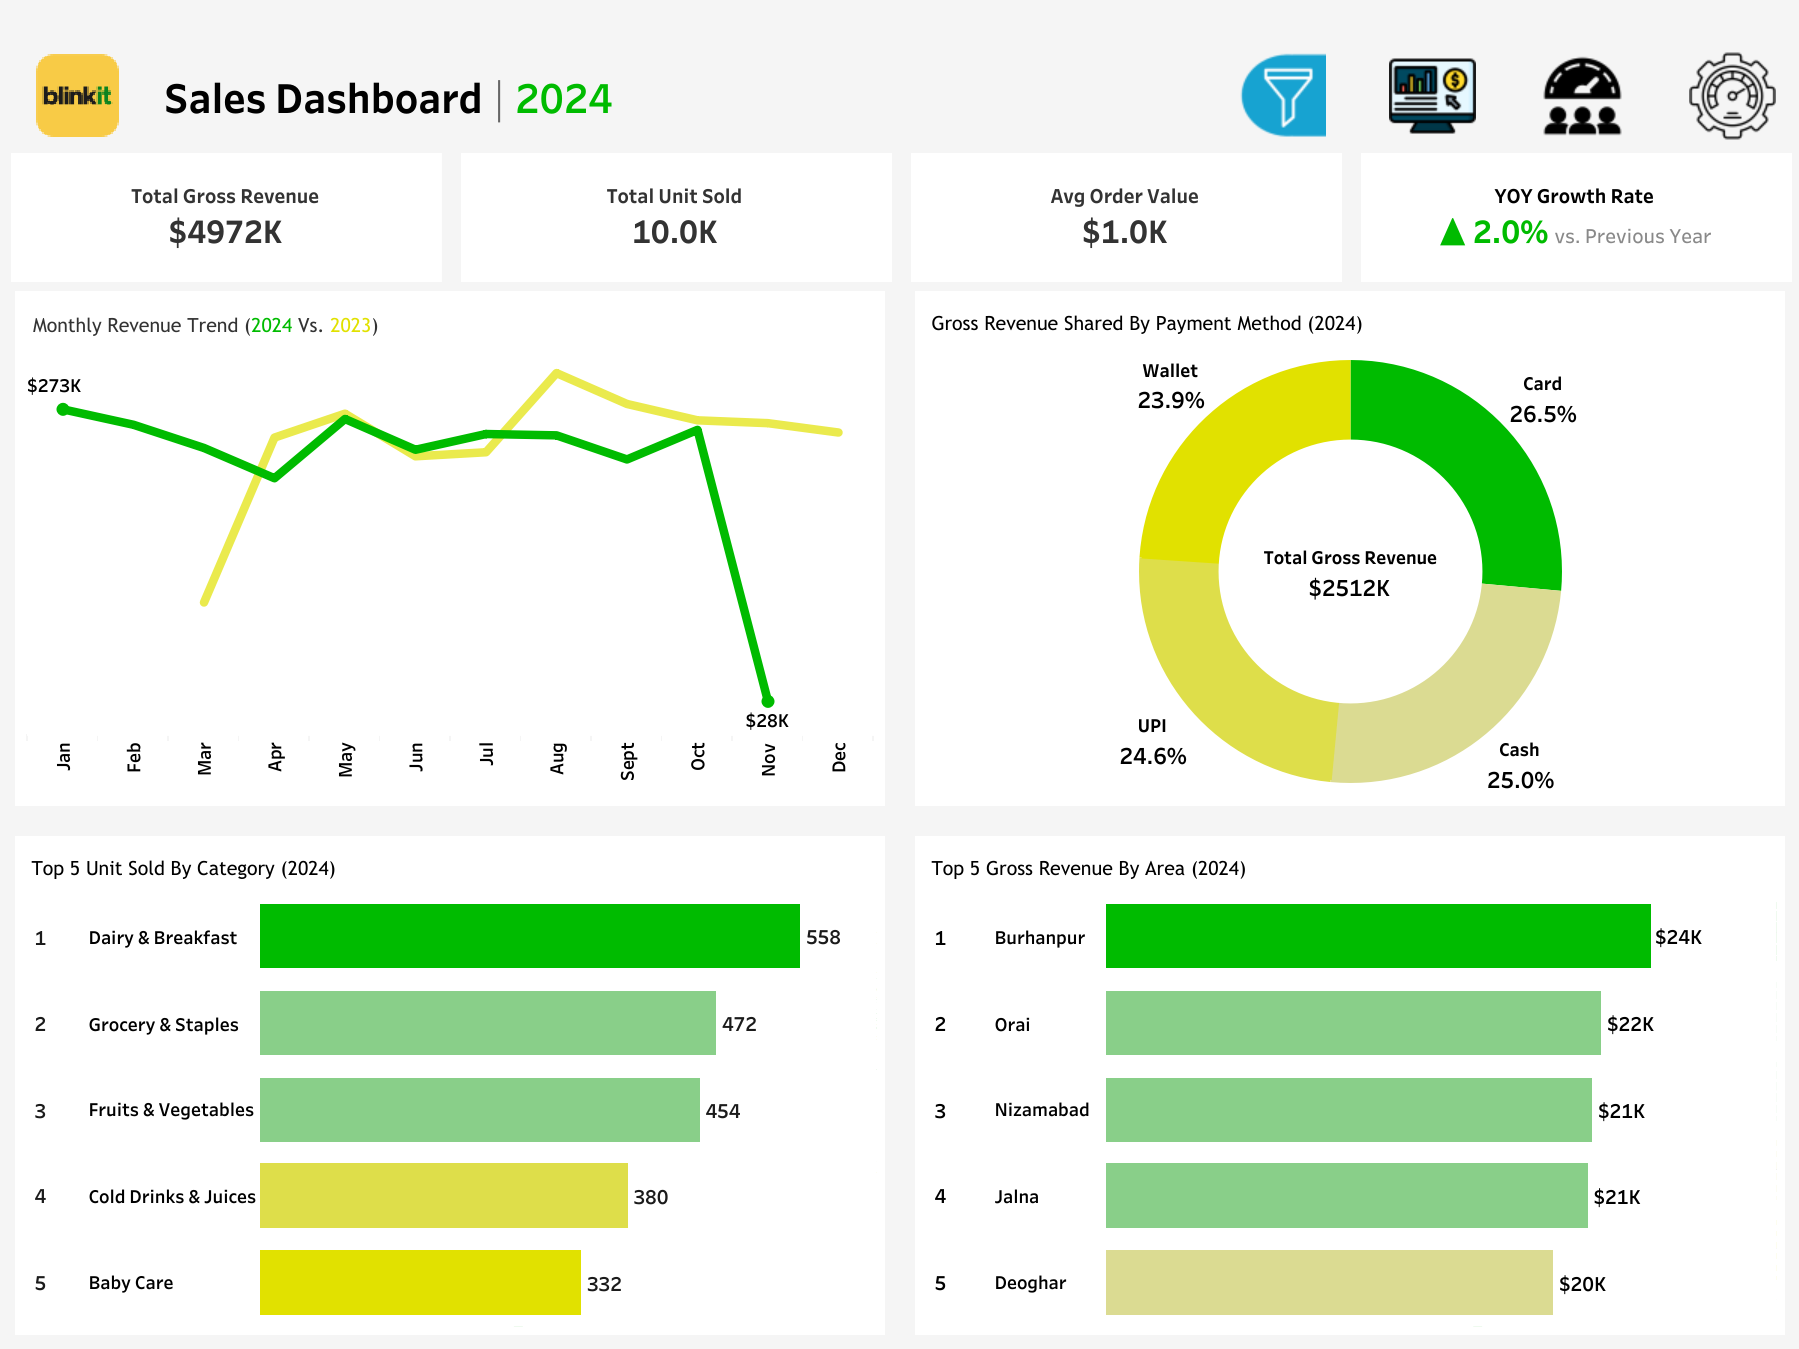

This screenshot's page, from the dashboard's own definition file:
{"tool":"tableau","page":{"name":"Sales Dashboard","canvas":[1200,900],"ordinal":2},"visuals":[{"type":"blank","box":[0,0,1200,32]},{"type":"dashboard-object","box":[805,31,100,66]},{"type":"dashboard-object","box":[905,31,100,66]},{"type":"dashboard-object","box":[1005,31,100,66]},{"type":"dashboard-object","box":[1105,31,100,66]},{"type":"image","param":"Image/blinkit-logo_brandlogos.net_yvy1m.png","box":[0,32,103,63]},{"type":"text","box":[103,32,637,63]},{"type":"blank","box":[985,45,199,69]},{"type":"worksheet","title":"Gross Revenu KPI","mark":"Text","box":[0,95,300,99]},{"type":"worksheet","title":"Unit Sold KPI","mark":"Text","box":[300,95,300,99]},{"type":"worksheet","title":"Avg Order Value KPI","mark":"Text","box":[600,95,300,99]},{"type":"worksheet","title":"YOY Growth Rate KPI","mark":"Text","box":[900,95,300,99]},{"type":"text","box":[985,114,199,79]},{"type":"parameter","param":"[Parameters].[Parameter 1]","box":[985,193,199,76]},{"type":"worksheet","title":"Monthly Revenue Trend","mark":"Line","rows":["CY Revenue (copy)_891431263127924750","Calculation_891431263127654413"],"cols":["order_month"],"box":[0,194,600,353]},{"type":"worksheet","title":"Revenue By Payment Method ","mark":"Pie","rows":["Calculation_696932053221589007","Calculation_696932053221589007"],"box":[600,194,600,353]},{"type":"parameter","param":"[Parameters].[Parameter 3]","box":[985,269,199,94]},{"type":"parameter","param":"[Parameters].[Parameter 2]","box":[985,363,199,90]},{"type":"filter","title":"Revenue By Payment Method ","param":"[federated.1udowps08ma9011gddvdr076s16l].[none:payment_method:nk]","box":[985,453,199,142]},{"type":"worksheet","title":"Unit Sold By Category","mark":"Bar","rows":["Calculation_696932053232156691","category"],"cols":["Calculation_696932053230972945"],"box":[0,547,600,353]},{"type":"worksheet","title":"Revenue By Area","mark":"Bar","rows":["Calculation_696932053187678212","area"],"cols":["Calculation_696932053186478082"],"box":[600,547,600,353]},{"type":"filter","title":"Unit Sold By Category","param":"[federated.079jhry0i552sc109qzxa18f8v4i].[none:category:nk]","box":[985,595,199,86]},{"type":"filter","title":"Revenue By Area","param":"[federated.01o8dra0gw5gbt1crq8x4159bgsr].[none:area:nk]","box":[985,681,199,90]}]}

Visuals, with their boxes in screenshot pixels (x1, y1, x2, y2), scaled from the page's 1200x900 canvas onto the 1799x1349 screenshot:
blank: 0 0 1798 48
dashboard-object: 1207 46 1357 145
dashboard-object: 1357 46 1507 145
dashboard-object: 1507 46 1657 145
dashboard-object: 1657 46 1798 145
image: 0 48 154 142
text: 154 48 1109 142
blank: 1477 67 1775 171
"Gross Revenu KPI" worksheet (Text marks): 0 142 450 291
"Unit Sold KPI" worksheet (Text marks): 450 142 900 291
"Avg Order Value KPI" worksheet (Text marks): 900 142 1349 291
"YOY Growth Rate KPI" worksheet (Text marks): 1349 142 1798 291
text: 1477 171 1775 289
parameter: 1477 289 1775 403
"Monthly Revenue Trend" worksheet (Line marks): 0 291 900 820
"Revenue By Payment Method " worksheet (Pie marks): 900 291 1798 820
parameter: 1477 403 1775 544
parameter: 1477 544 1775 679
"Revenue By Payment Method " filter: 1477 679 1775 892
"Unit Sold By Category" worksheet (Bar marks): 0 820 900 1348
"Revenue By Area" worksheet (Bar marks): 900 820 1798 1348
"Unit Sold By Category" filter: 1477 892 1775 1021
"Revenue By Area" filter: 1477 1021 1775 1156
